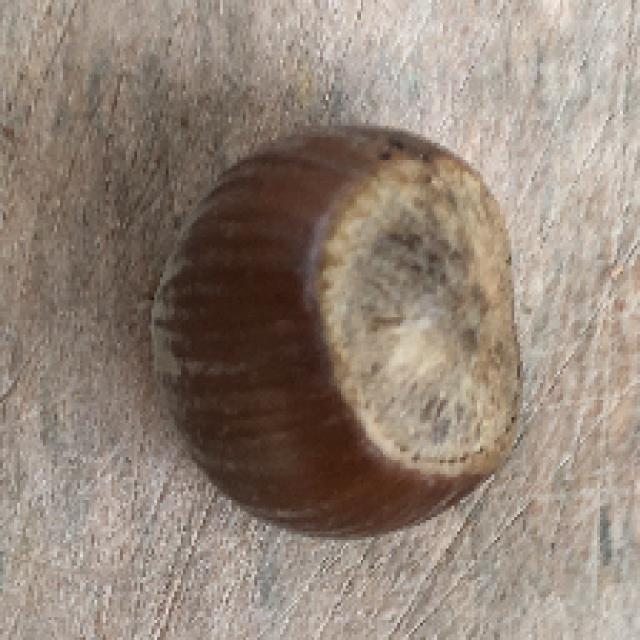qualityHazelnut: (145, 115, 526, 545)
